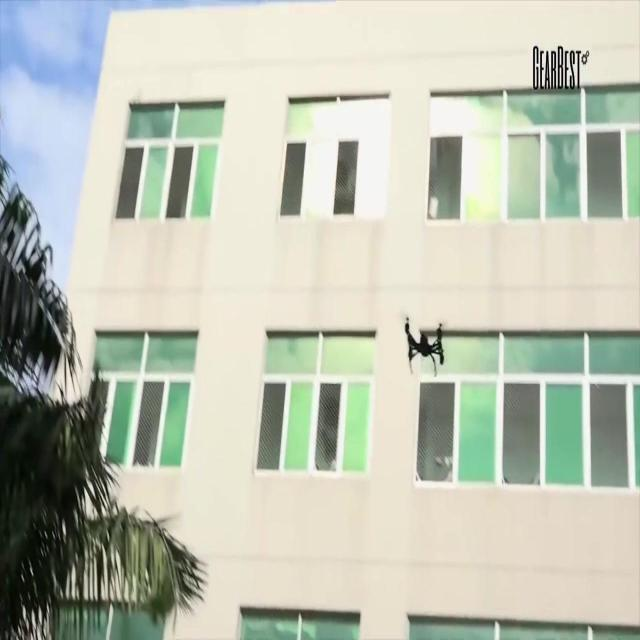drone: (402, 311, 448, 378)
